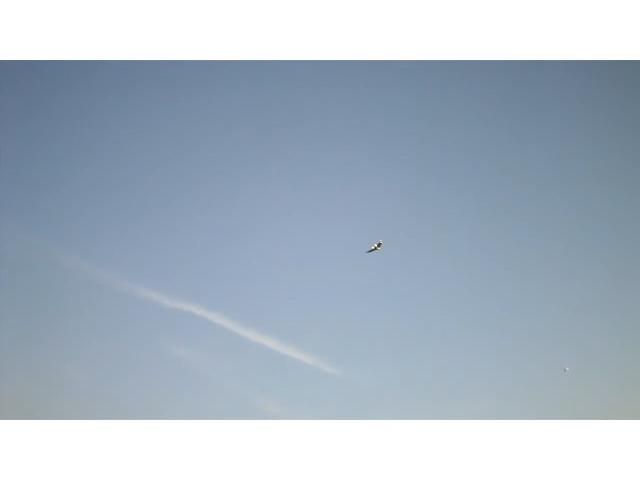Anti-Drone: (346, 236, 394, 262)
